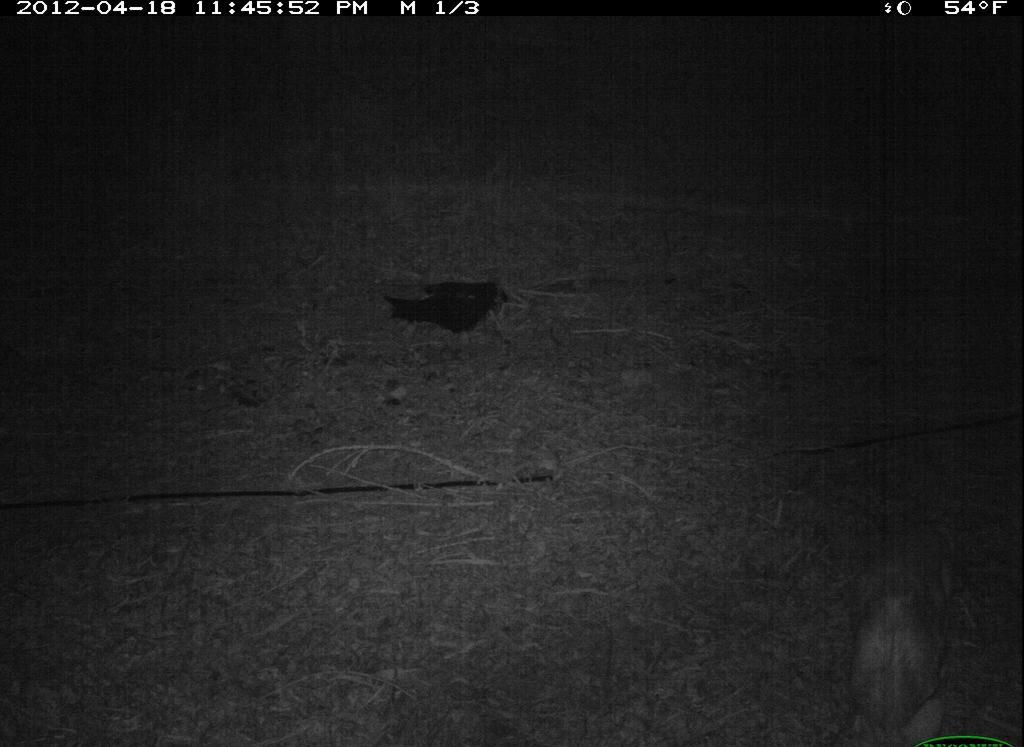coyote: (840, 533, 973, 747)
